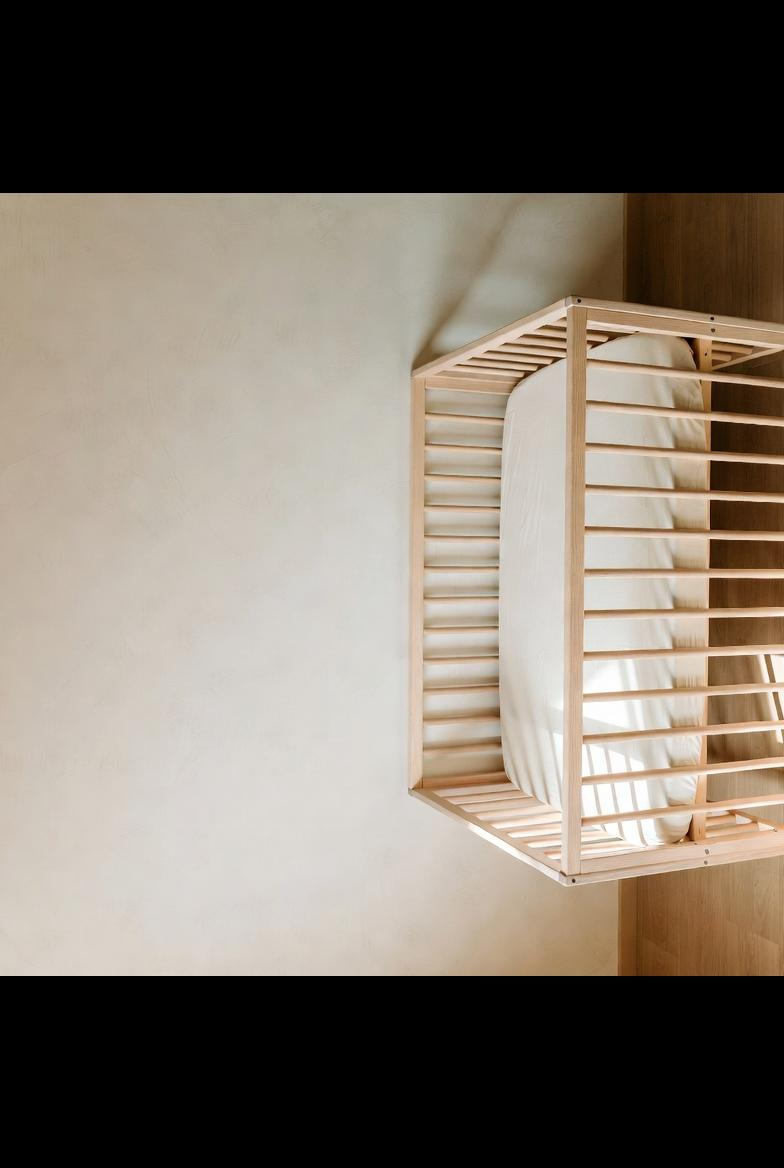crib: (410, 296, 784, 884)
